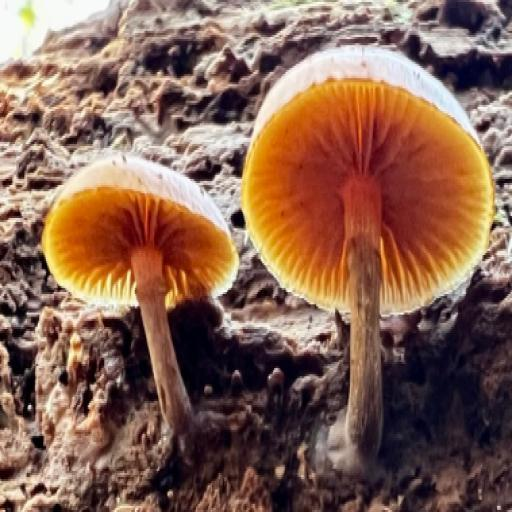mushroom: (244, 11, 497, 410), (36, 130, 244, 426)
